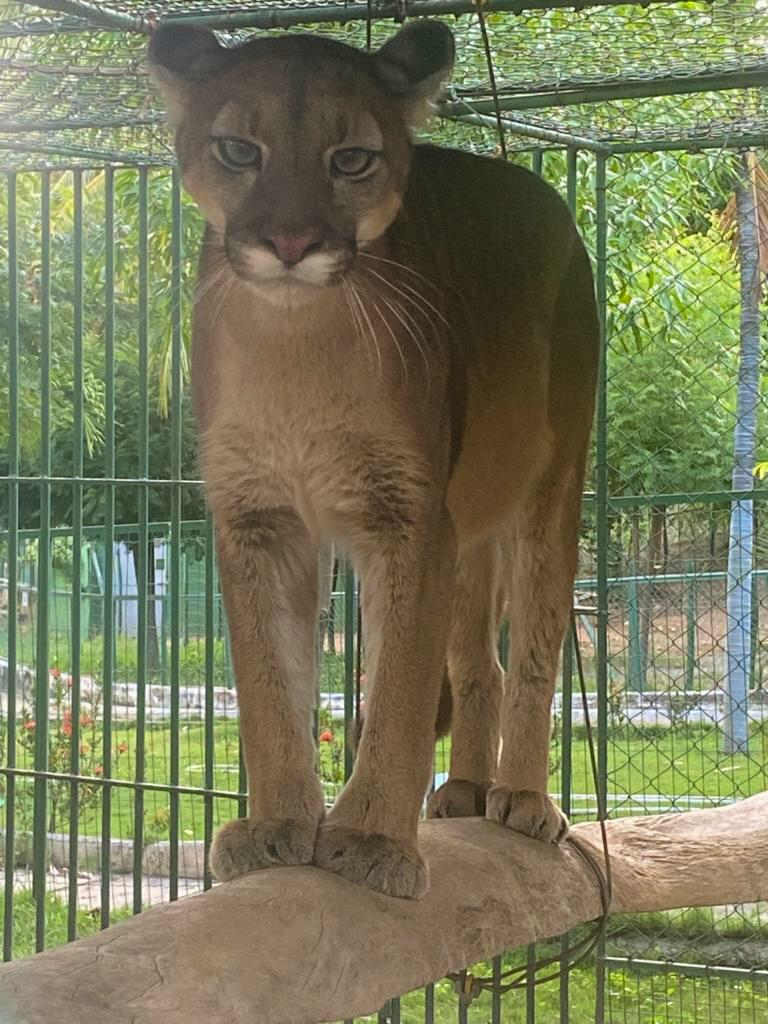OncaParda: (125, 15, 610, 898)
